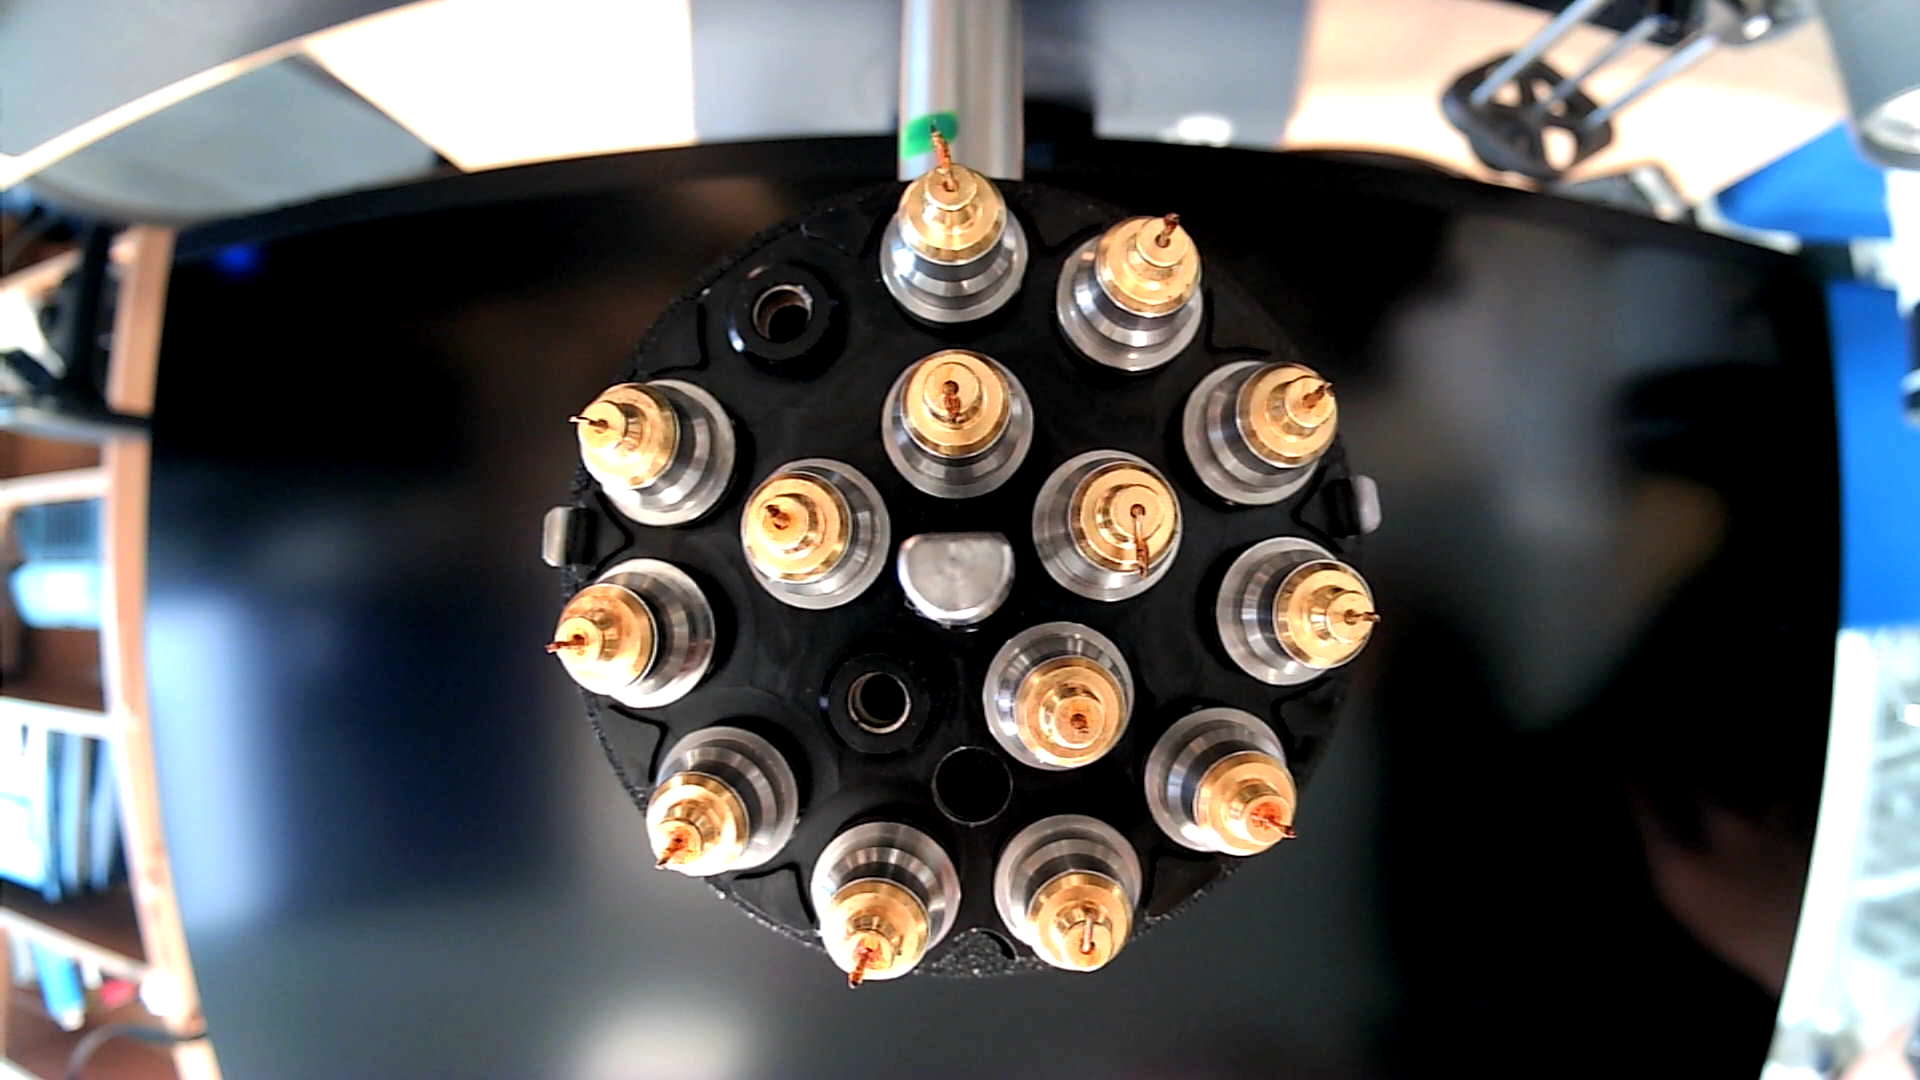bent: (880, 121, 1030, 328), (988, 814, 1146, 977), (877, 344, 1038, 502), (1030, 446, 1184, 609)
empty: (818, 644, 942, 761), (729, 262, 847, 378)
hole: (927, 740, 1013, 827)
pin: (535, 553, 720, 711), (806, 812, 963, 992), (1203, 533, 1374, 690), (568, 375, 741, 530), (1055, 204, 1207, 377), (1135, 705, 1296, 866), (642, 717, 798, 878), (978, 620, 1135, 775), (1180, 357, 1338, 512), (736, 456, 891, 612)
rod: (895, 526, 1018, 630)
